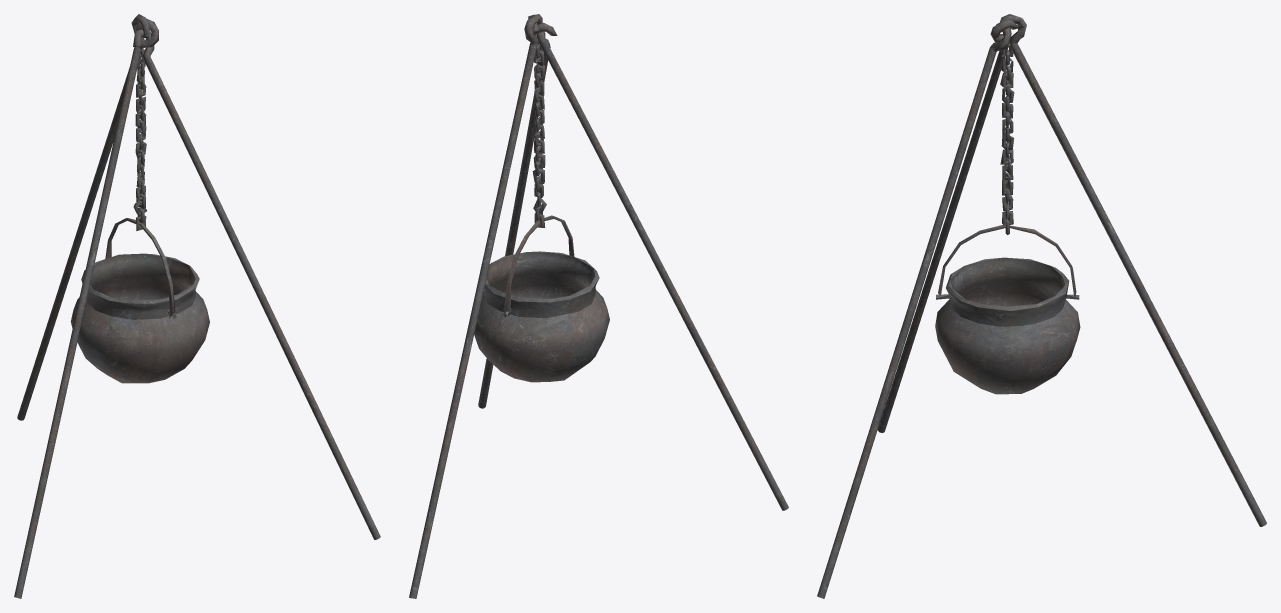
The model's file is SM_ConicalCauldron_02.fbx.
The picture shows the model from 3 angles, left to right: view 1: azimuth 30°, elevation 25°; view 2: azimuth 150°, elevation 25°; view 3: azimuth 270°, elevation 25°; orthographic projection. The views are drawn at different scales.
Parts seen in each view (by area): view 1: SM_ConicalCauldron_02_LOD0; view 2: SM_ConicalCauldron_02_LOD0; view 3: SM_ConicalCauldron_02_LOD0.
Boxes of the visible parts, x1,y1,x2,y2 form: SM_ConicalCauldron_02_LOD0: (14,14,380,598); SM_ConicalCauldron_02_LOD0: (409,14,788,598); SM_ConicalCauldron_02_LOD0: (817,14,1266,598).
Size of the model in its own units: 103 by 115 by 144.
